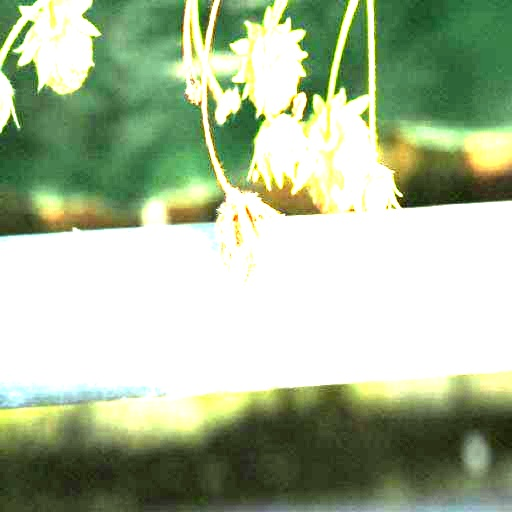Gray Mold: (216, 187, 286, 322)
